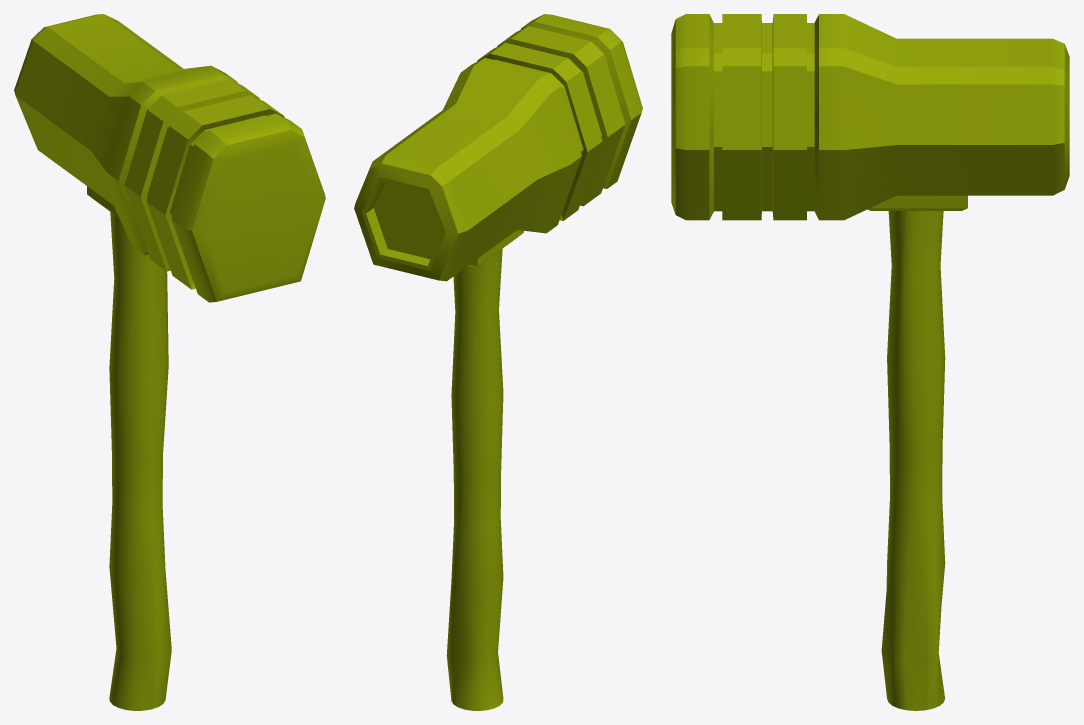
The model's file is EN_P_Hammer.fbx.
The picture shows the model from 3 angles, left to right: view 1: azimuth 30°, elevation 25°; view 2: azimuth 150°, elevation 25°; view 3: azimuth 270°, elevation 25°; orthographic projection. The views are drawn at different scales.
Visible parts, largest first — view 1: EN_P_Hammer; view 2: EN_P_Hammer; view 3: EN_P_Hammer.
Part boxes in pixels (x1=…): EN_P_Hammer: x1=14, y1=14, x2=325, y2=710; EN_P_Hammer: x1=354, y1=14, x2=642, y2=710; EN_P_Hammer: x1=671, y1=14, x2=1069, y2=710.
Bounding box in the file's own units: 7.54 × 33.01 × 17.79.
